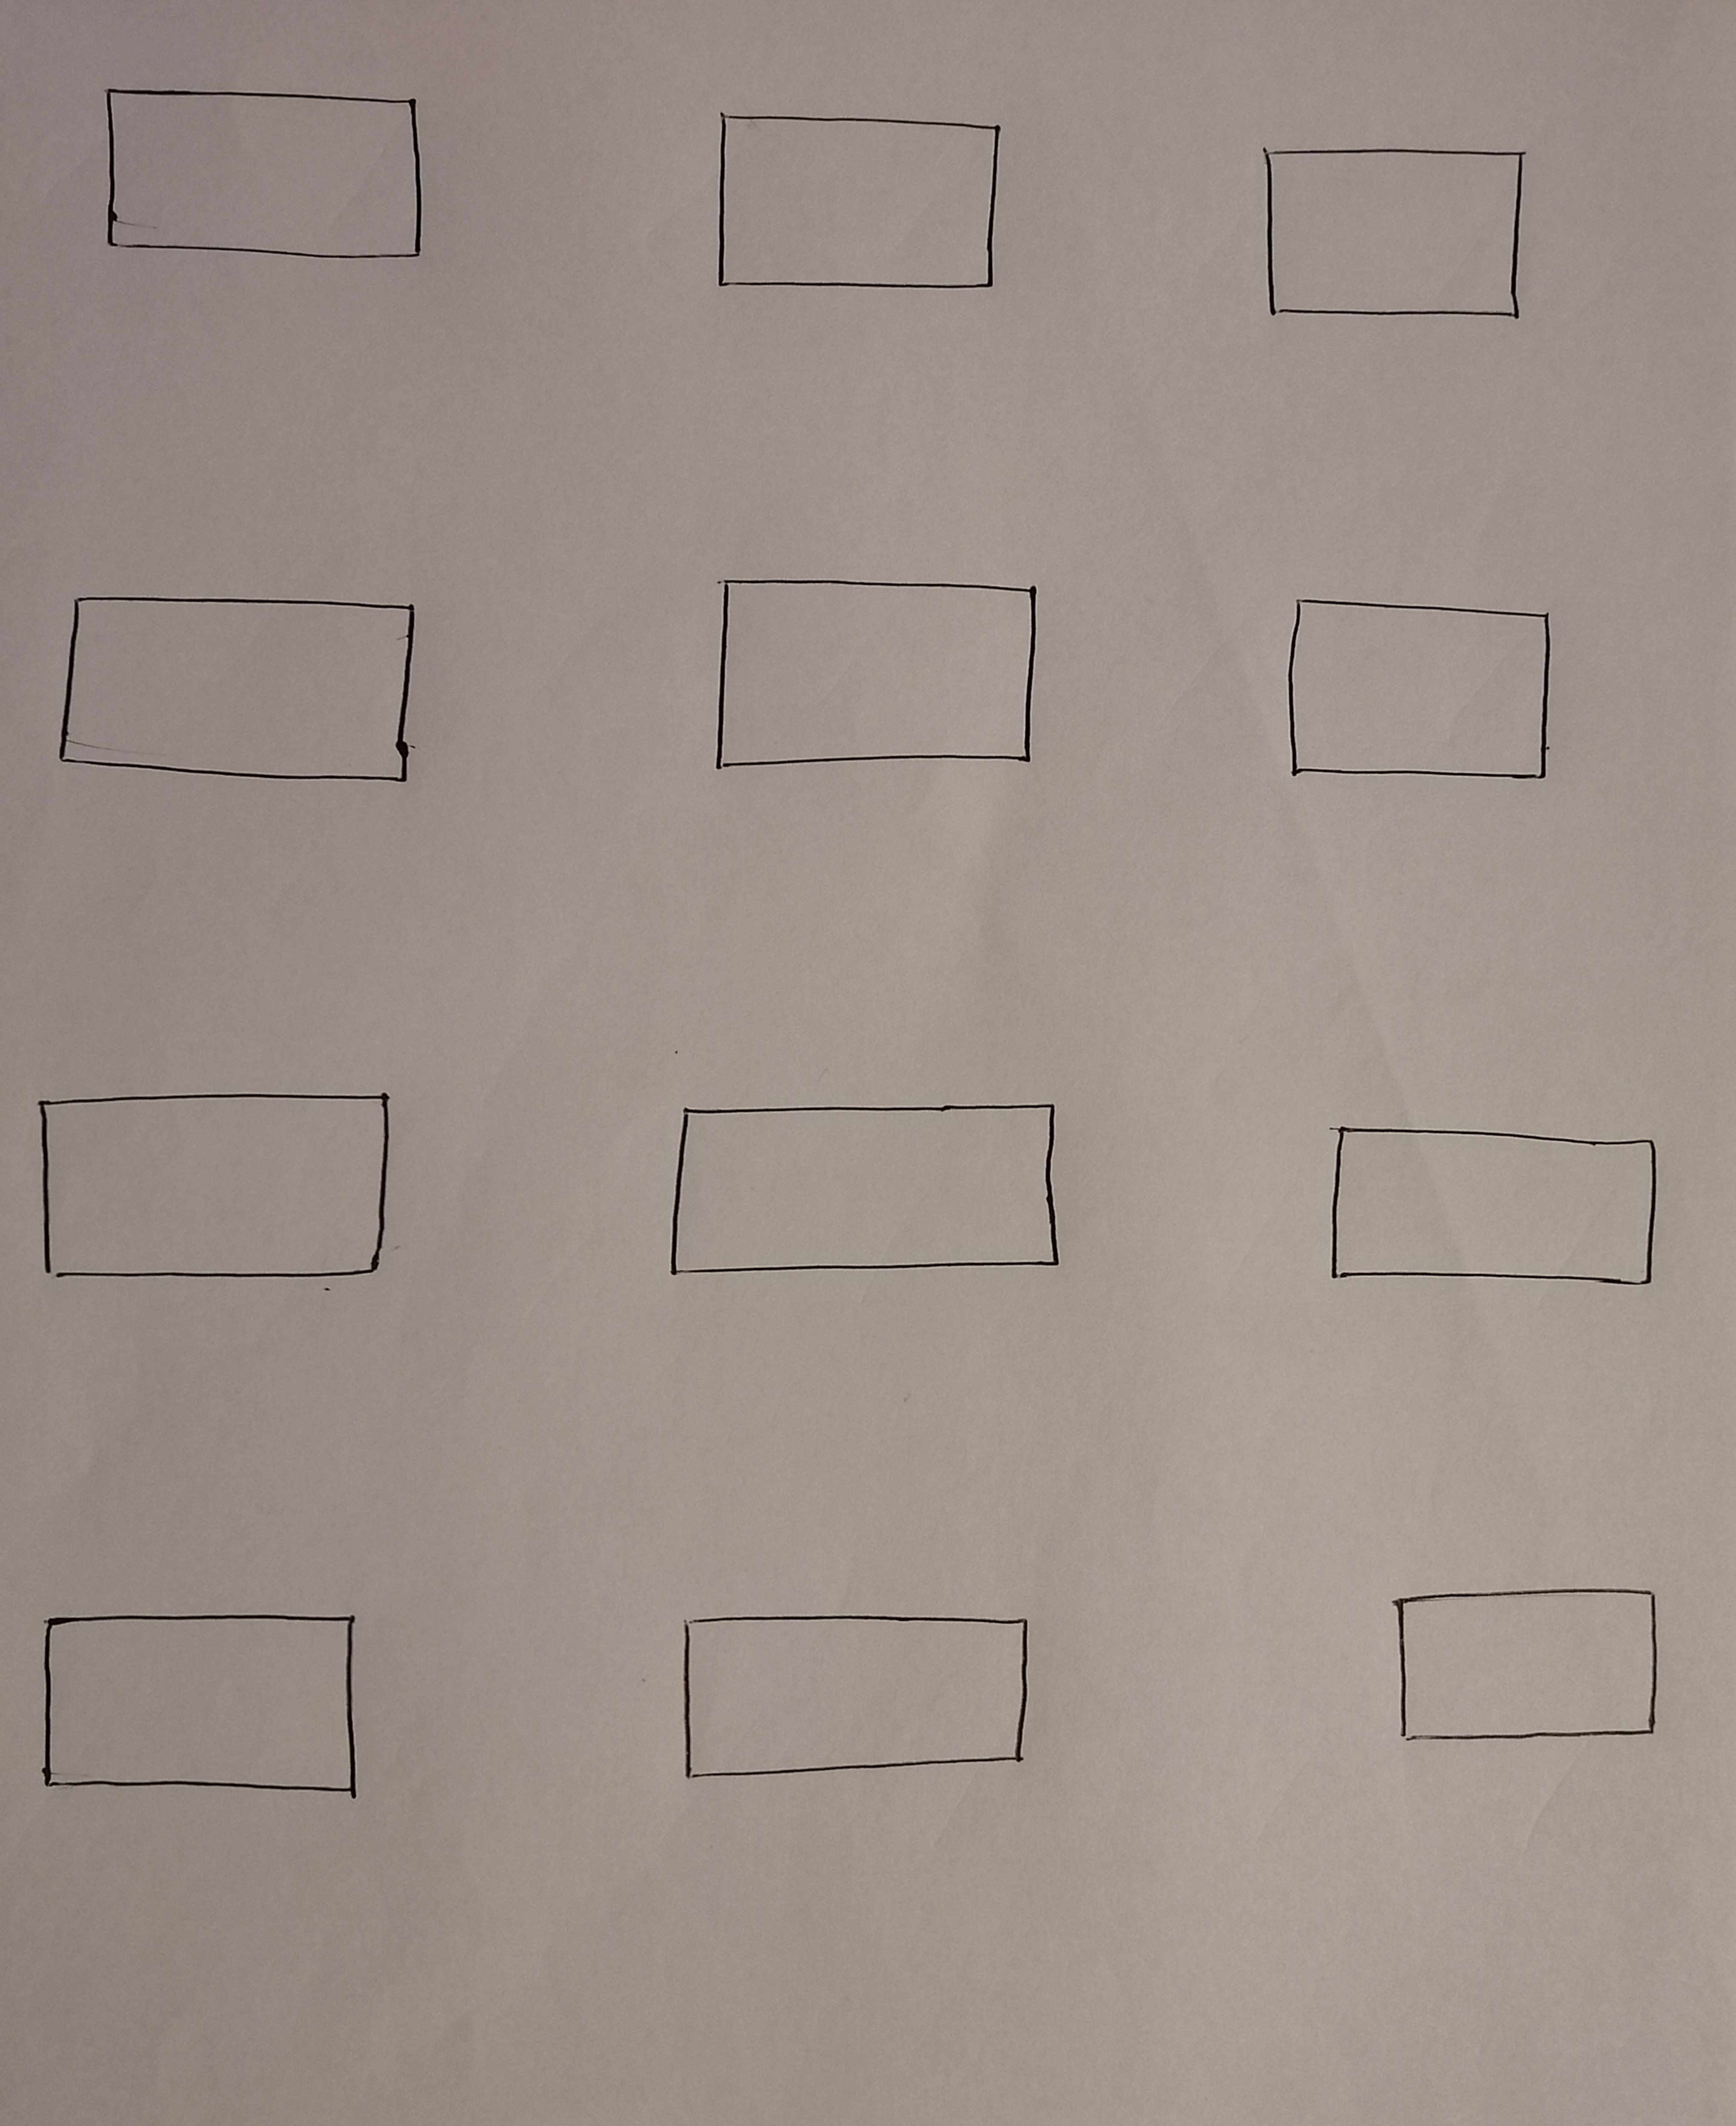process: (653, 530, 1091, 830), (657, 51, 1068, 362), (618, 1070, 1111, 1324), (25, 549, 470, 825), (18, 1059, 486, 1321), (620, 1573, 1111, 1819), (55, 41, 484, 309), (1240, 542, 1612, 849), (1194, 90, 1586, 362), (1279, 1074, 1692, 1331), (18, 1584, 411, 1852), (1332, 1570, 1704, 1769)
